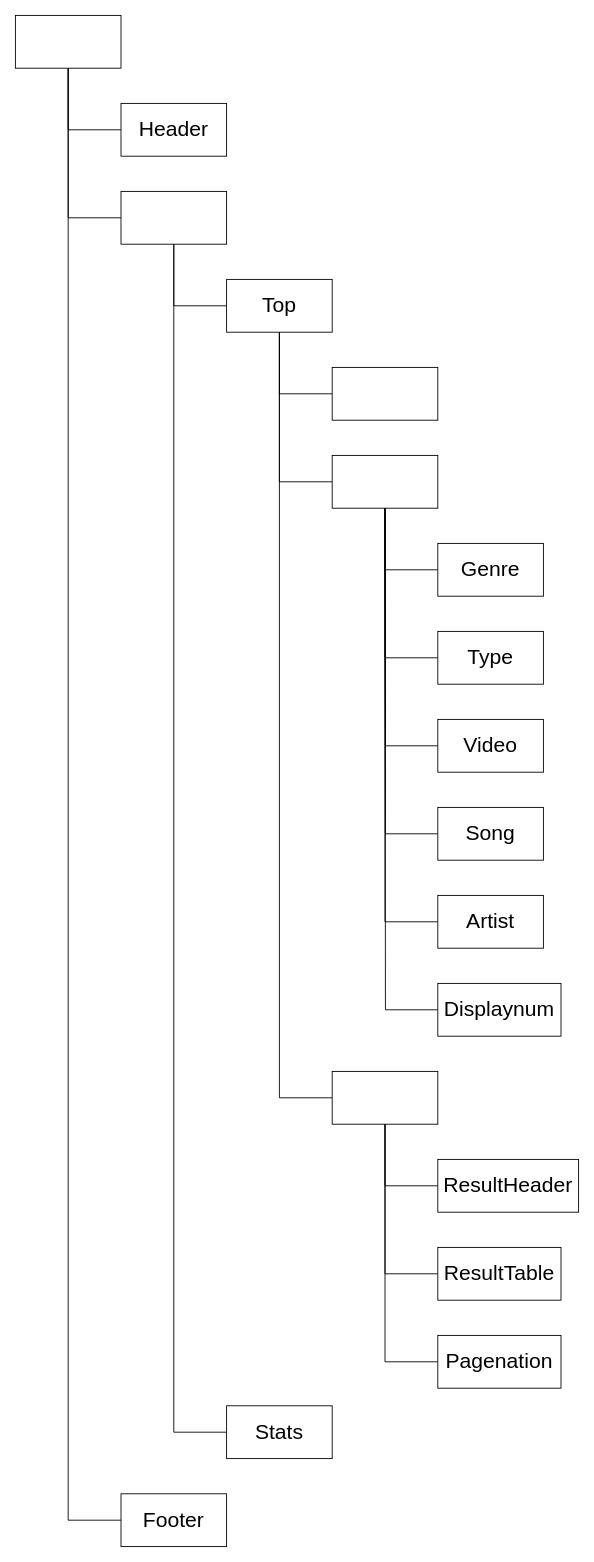
Some shapes in this 594 by 1562 pixel diagram are drawn without their labels. Each missing label, with the centre of its shape:
"About" goes at pixel 384 393.
"Main" goes at pixel 173 217.
"Result" goes at pixel 384 1097.
"Root" goes at pixel 68 41.
"Select" goes at pixel 384 481.
